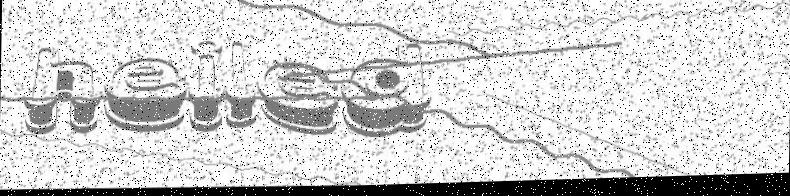d: (339, 39, 435, 138)
e: (258, 54, 344, 141), (101, 55, 191, 138)
h: (26, 44, 99, 142)
i: (186, 34, 229, 143)
l: (225, 34, 262, 142)
